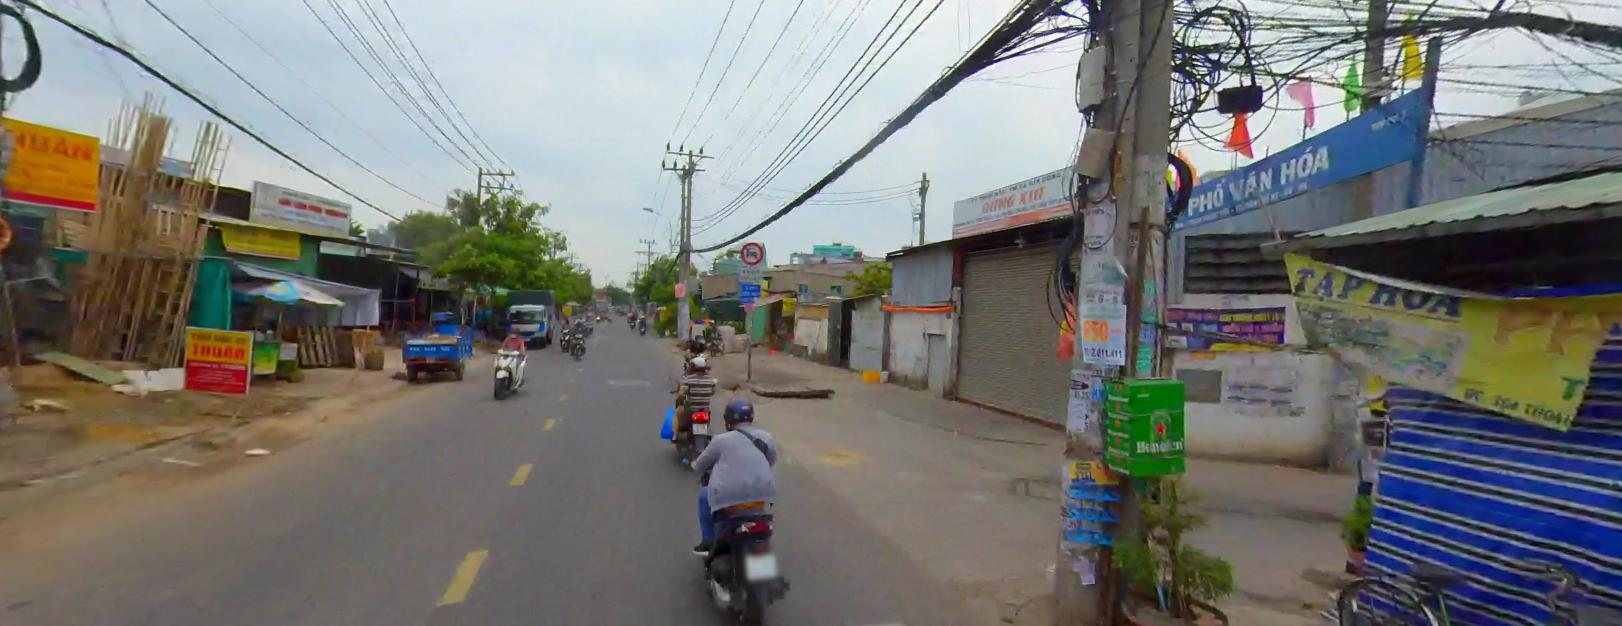Cam con lai: (740, 241, 764, 265)
